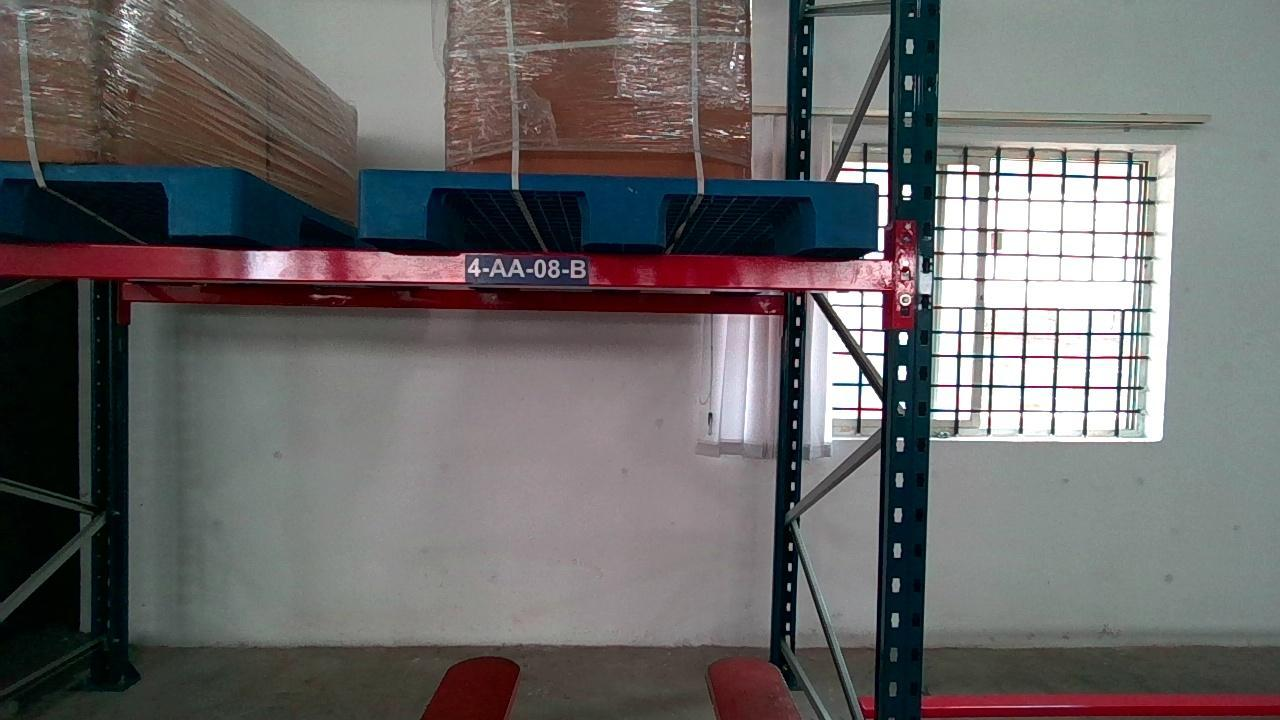h_rack: (0, 240, 896, 291)
small_pallet: (358, 167, 879, 248)
